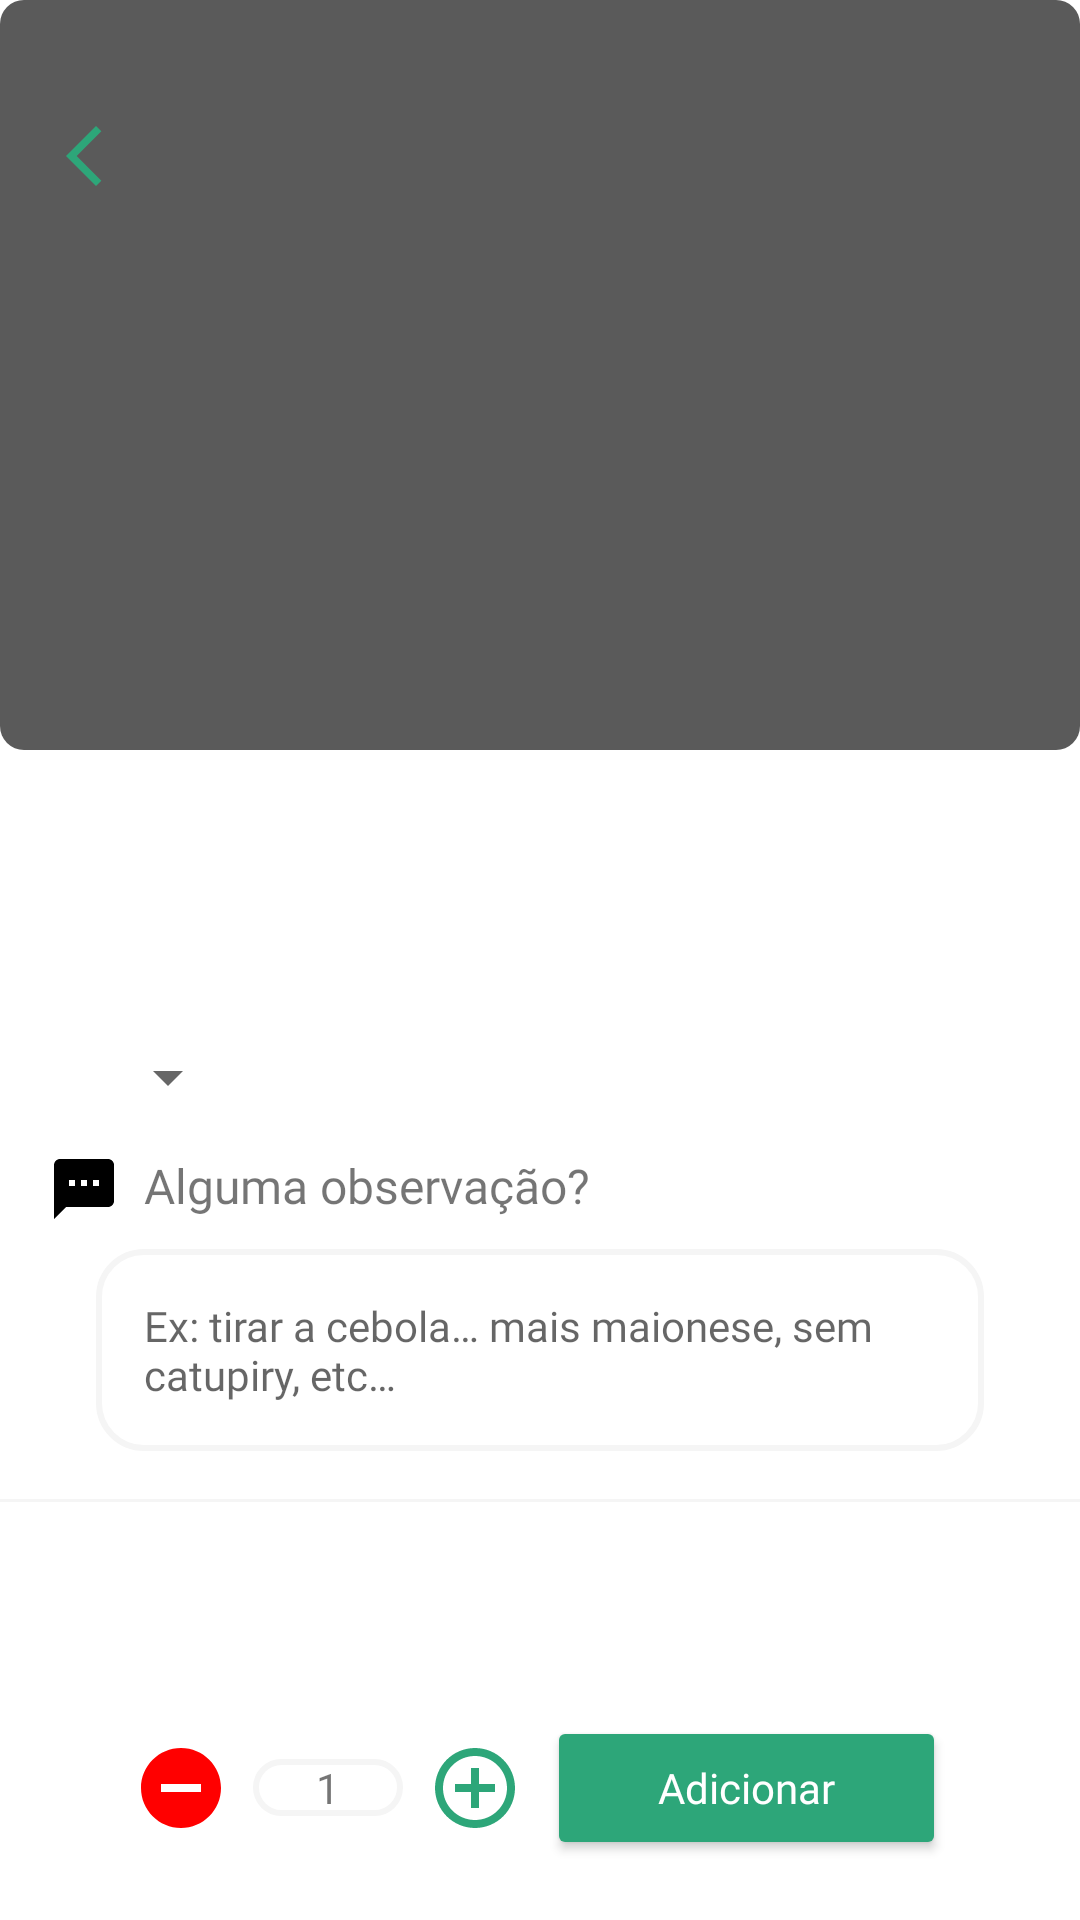

Screen size 1080px×1920px. Icon name, then its center in pixels as [x,y]:
add circle: [475,1788]
arrow back: [83,156]
remove circle: [181,1788]
